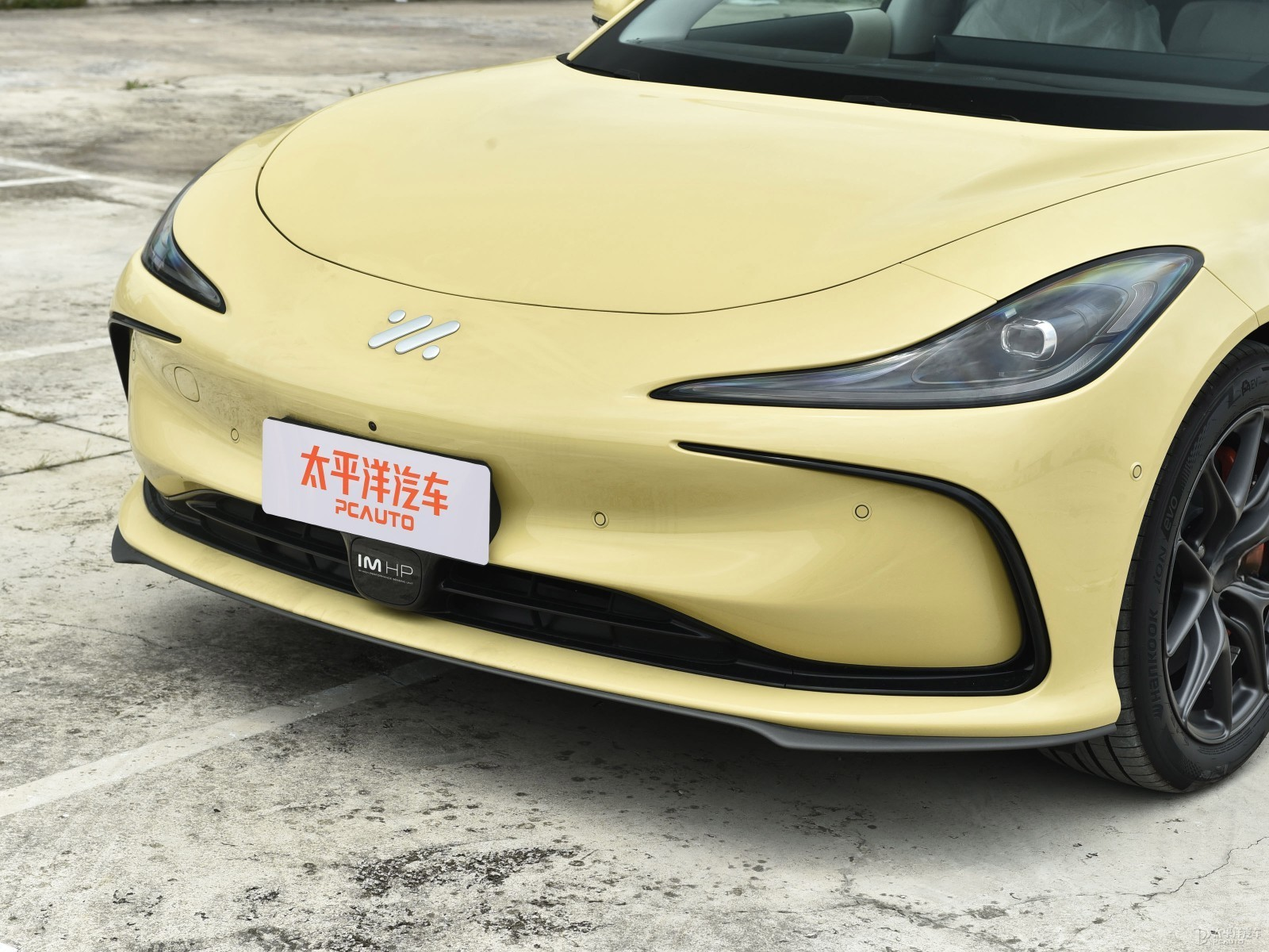IM: (370, 313, 460, 359)
